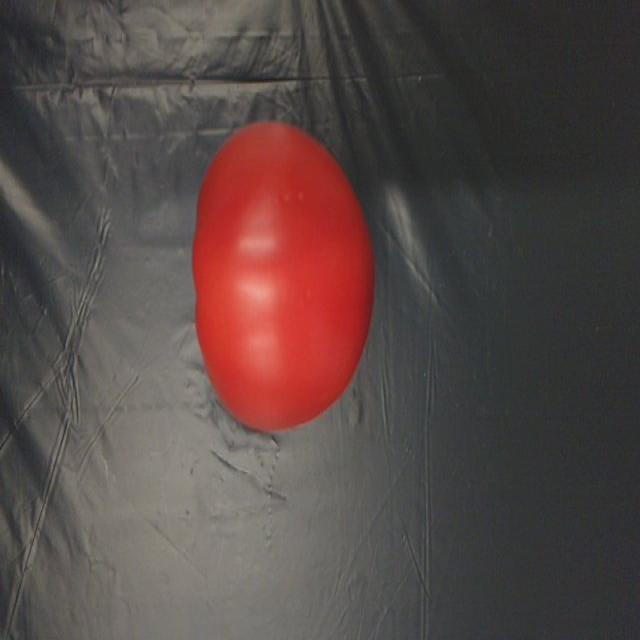kirmizi: (196, 112, 377, 444)
